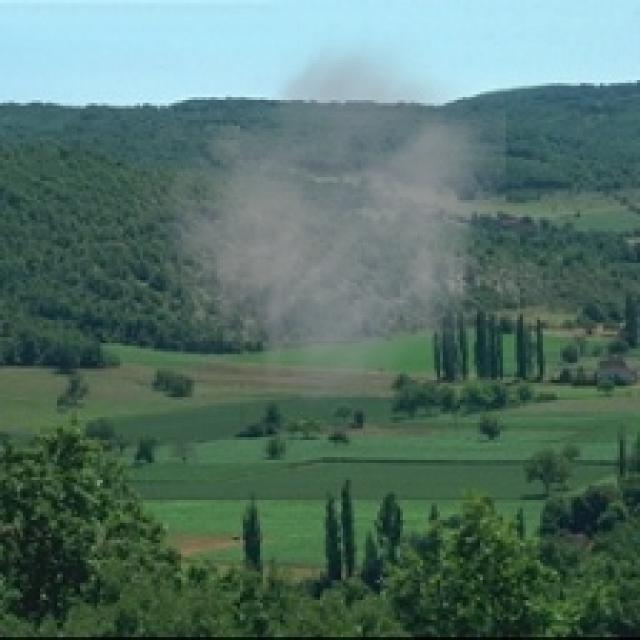Smoke: (123, 23, 506, 420)
